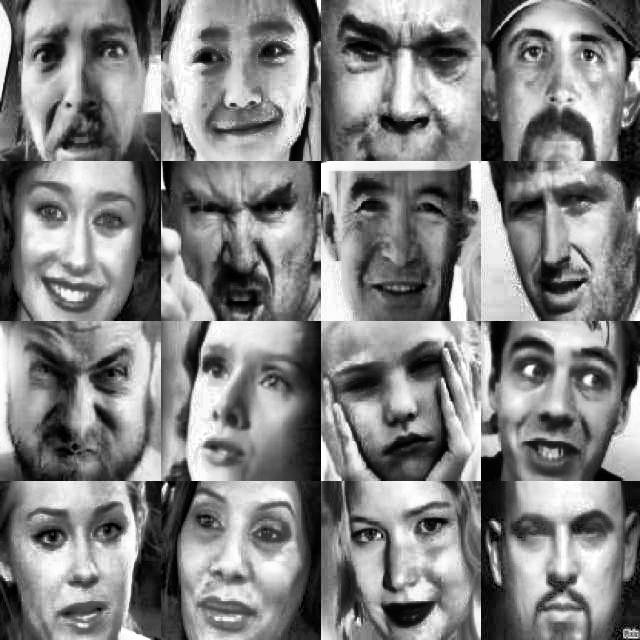angry: (336, 16, 467, 150), (18, 322, 138, 468), (181, 338, 310, 470), (185, 192, 309, 308)
fear: (23, 17, 143, 151)
happy: (172, 13, 314, 157), (505, 333, 625, 470), (341, 182, 465, 310), (345, 508, 467, 632), (26, 185, 143, 309)
neutral: (328, 326, 480, 463), (493, 21, 630, 161), (509, 182, 631, 310), (511, 500, 625, 617)
sad: (171, 492, 311, 634), (19, 489, 147, 631)
